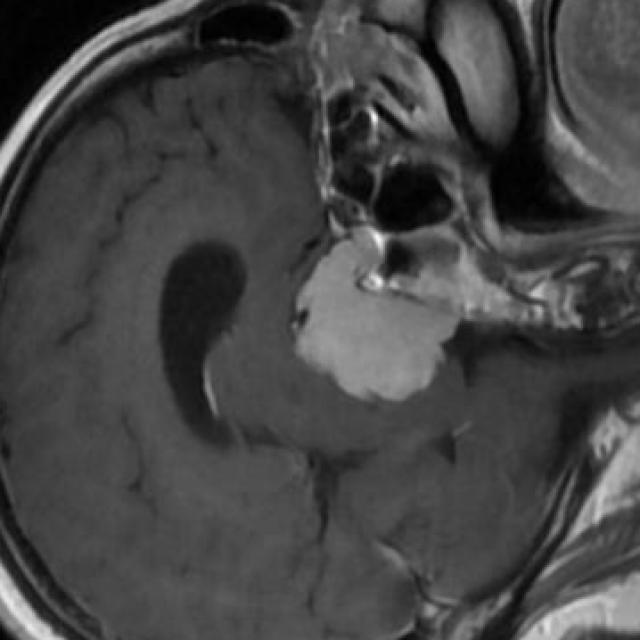meningioma: (296, 230, 458, 403)
